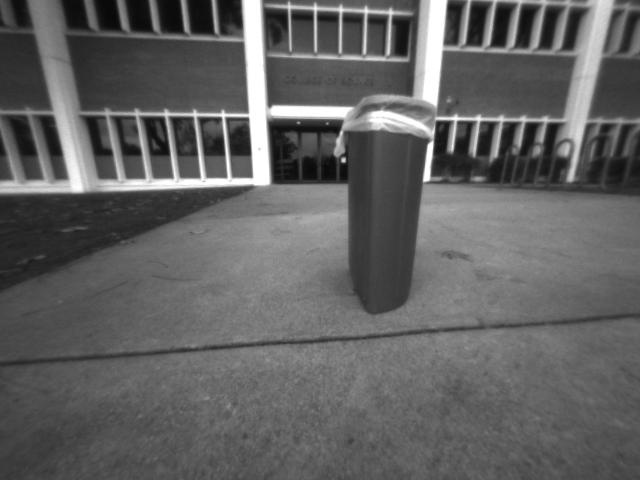trashcan_open: (336, 91, 447, 327)
